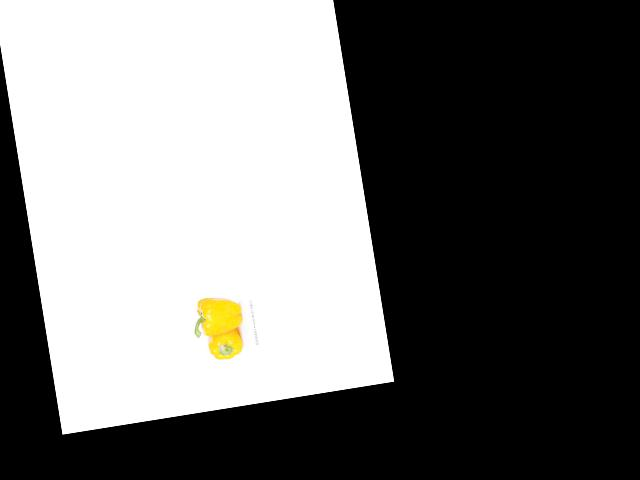bell_pepper: (203, 325, 246, 362)
